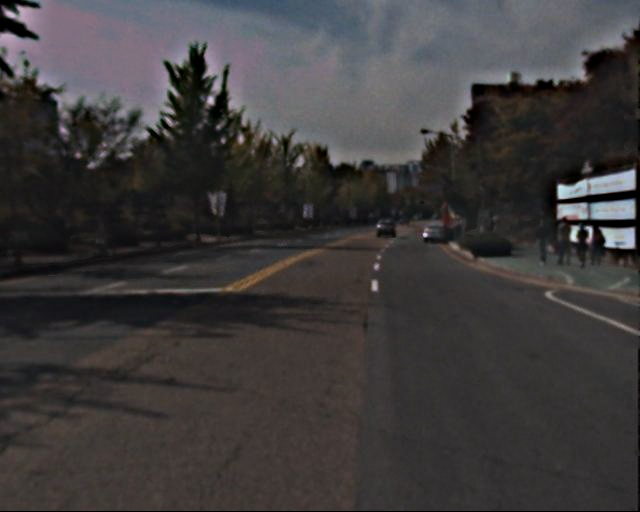person: (553, 215, 575, 268), (534, 218, 555, 268), (586, 224, 607, 269), (572, 222, 591, 269)
